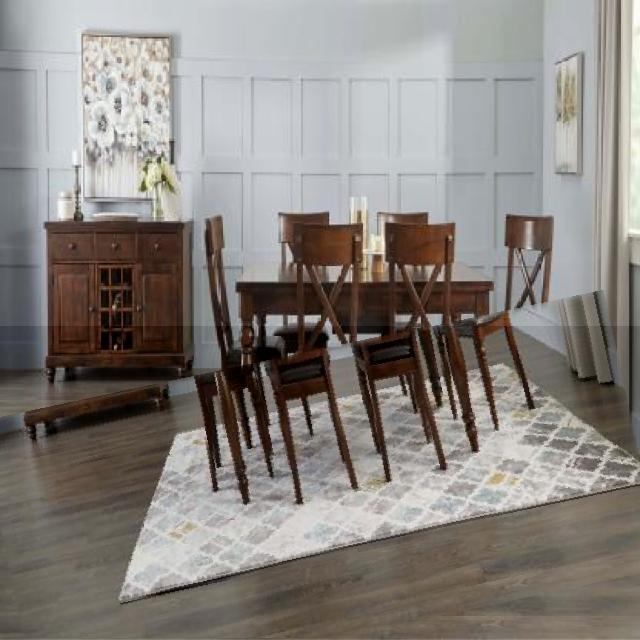floor: (0, 327, 640, 639)
